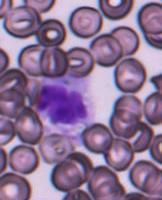N: (36, 74, 96, 131)
